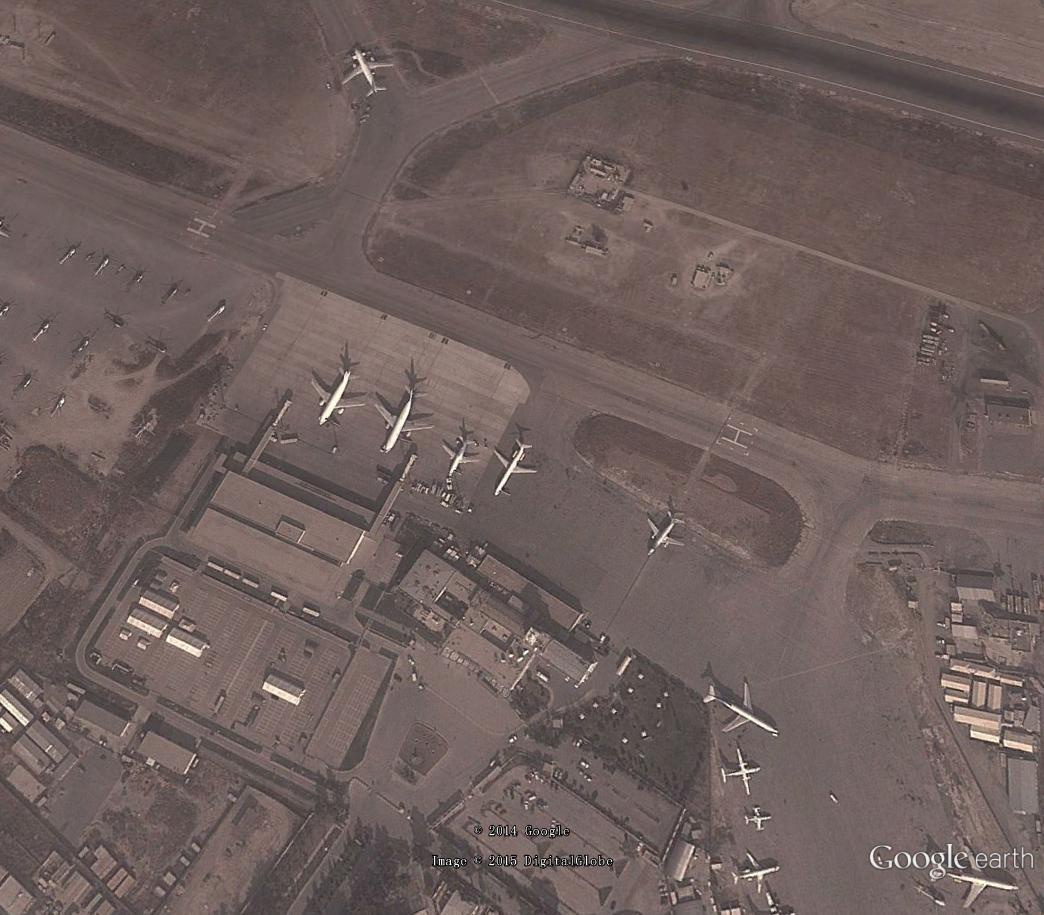aircraft: (699, 673, 786, 742), (373, 385, 435, 457), (339, 40, 399, 105), (309, 366, 369, 430), (729, 841, 781, 898), (492, 439, 541, 498), (642, 505, 691, 559), (720, 745, 762, 798), (439, 432, 484, 480), (742, 801, 774, 835)
